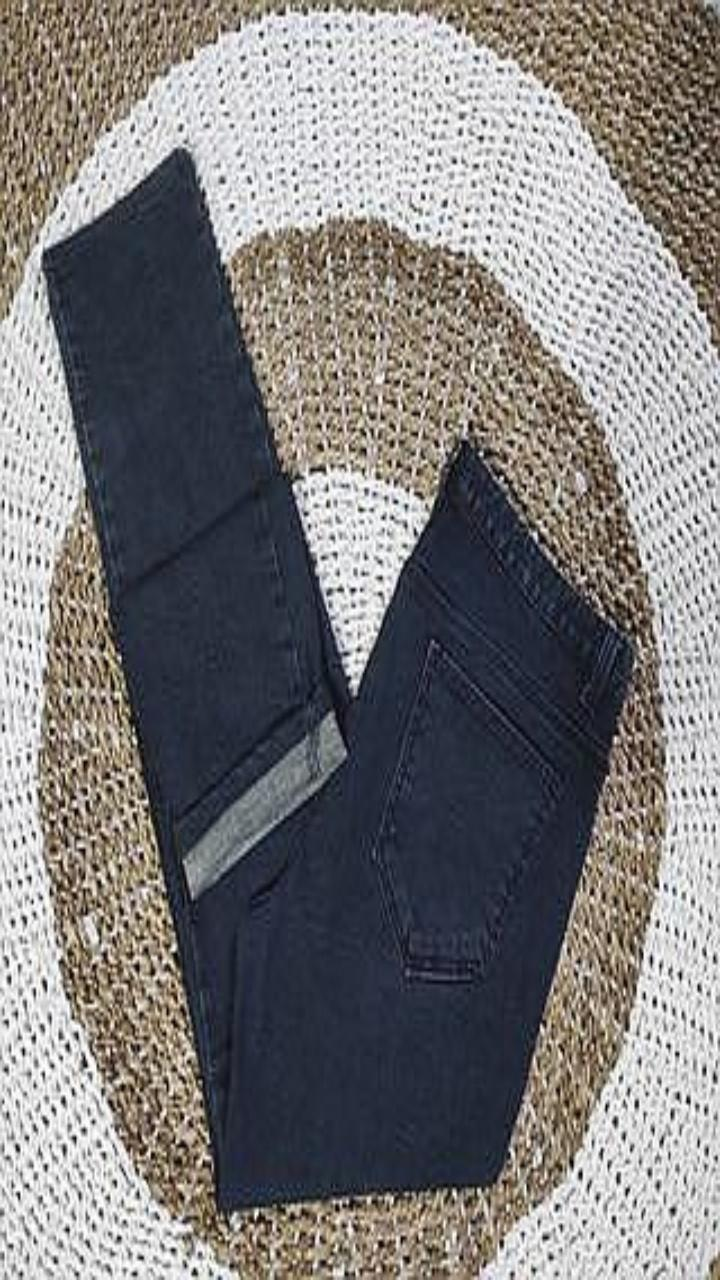Jeans: (43, 152, 630, 1208)
